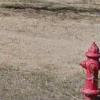Hydrant: (73, 31, 100, 100)
